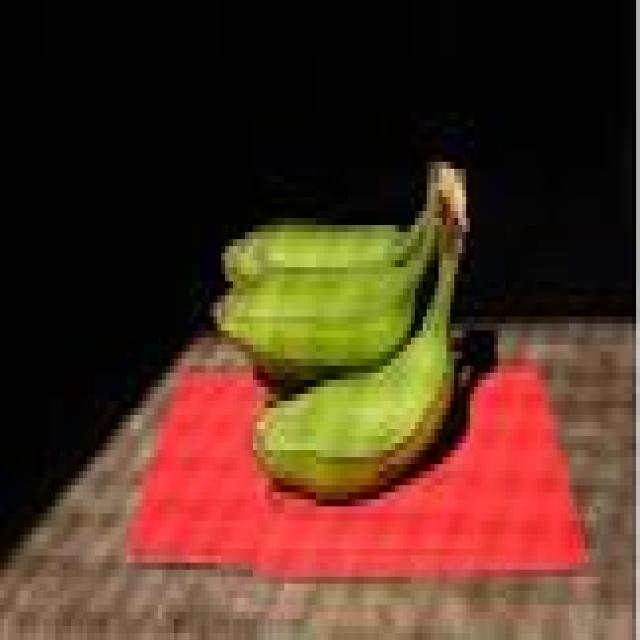banana: (253, 176, 466, 499), (214, 162, 446, 379), (214, 219, 434, 379), (222, 211, 422, 288)
